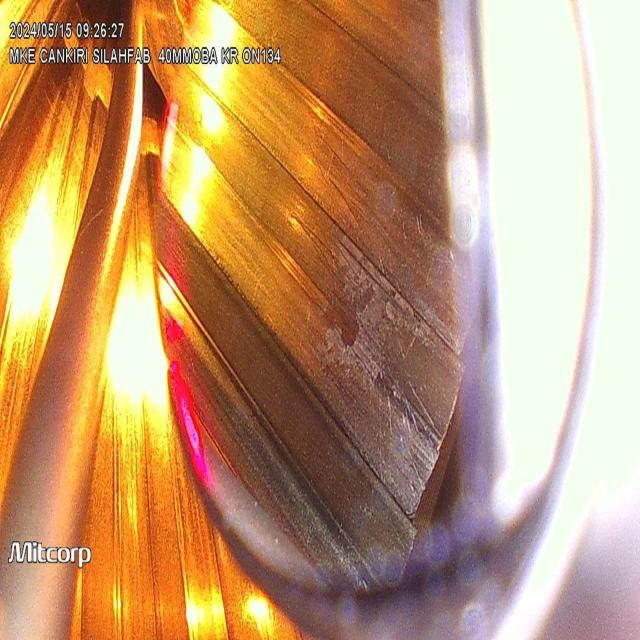hata_8.1: (324, 242, 450, 430)
hata_9.3: (309, 216, 463, 546)
